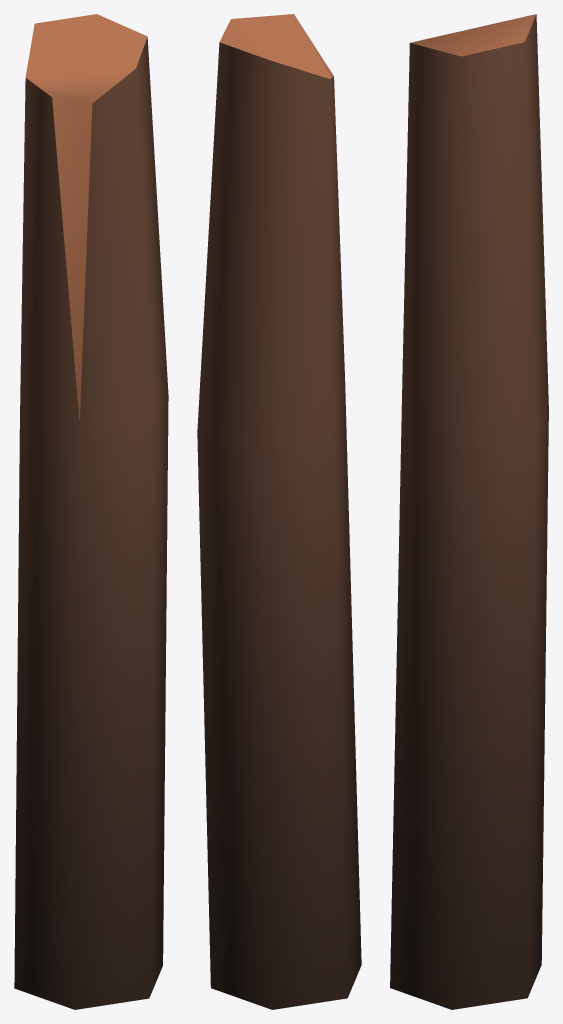
Rendered from Fence_2B_Part_2.fbx.
3 views of the same model, side by side, from view 1: azimuth 30°, elevation 25°; view 2: azimuth 150°, elevation 25°; view 3: azimuth 270°, elevation 25° (orthographic). The views are drawn at different scales.
Parts seen in each view (by area): view 1: Fence_2B_Part_2; view 2: Fence_2B_Part_2; view 3: Fence_2B_Part_2.
Boxes of the visible parts, box(x1,y1,x2,y2) form: Fence_2B_Part_2: box(14, 14, 168, 1009); Fence_2B_Part_2: box(197, 14, 361, 1009); Fence_2B_Part_2: box(390, 14, 548, 1009).
Bounding box in the file's own units: 21.82 × 134 × 20.28.
